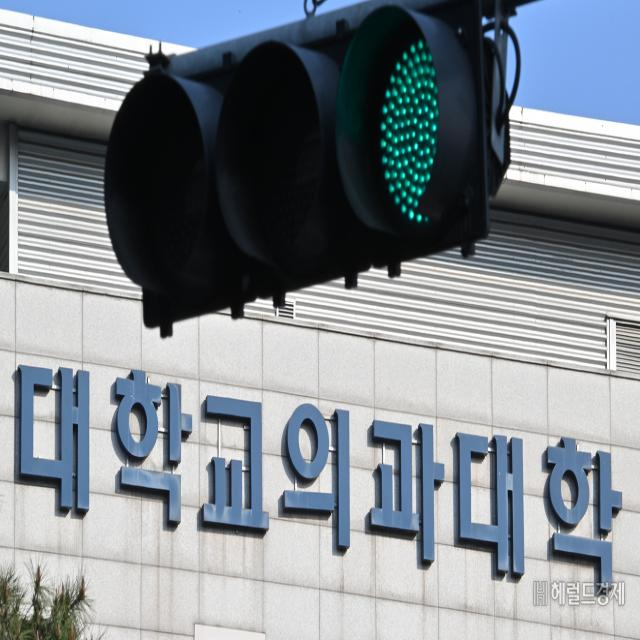Green_light: (96, 23, 502, 238)
